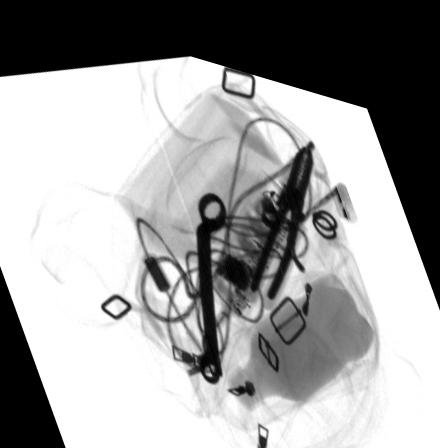Pliers: (240, 126, 313, 292)
Wrench: (196, 179, 227, 373)
